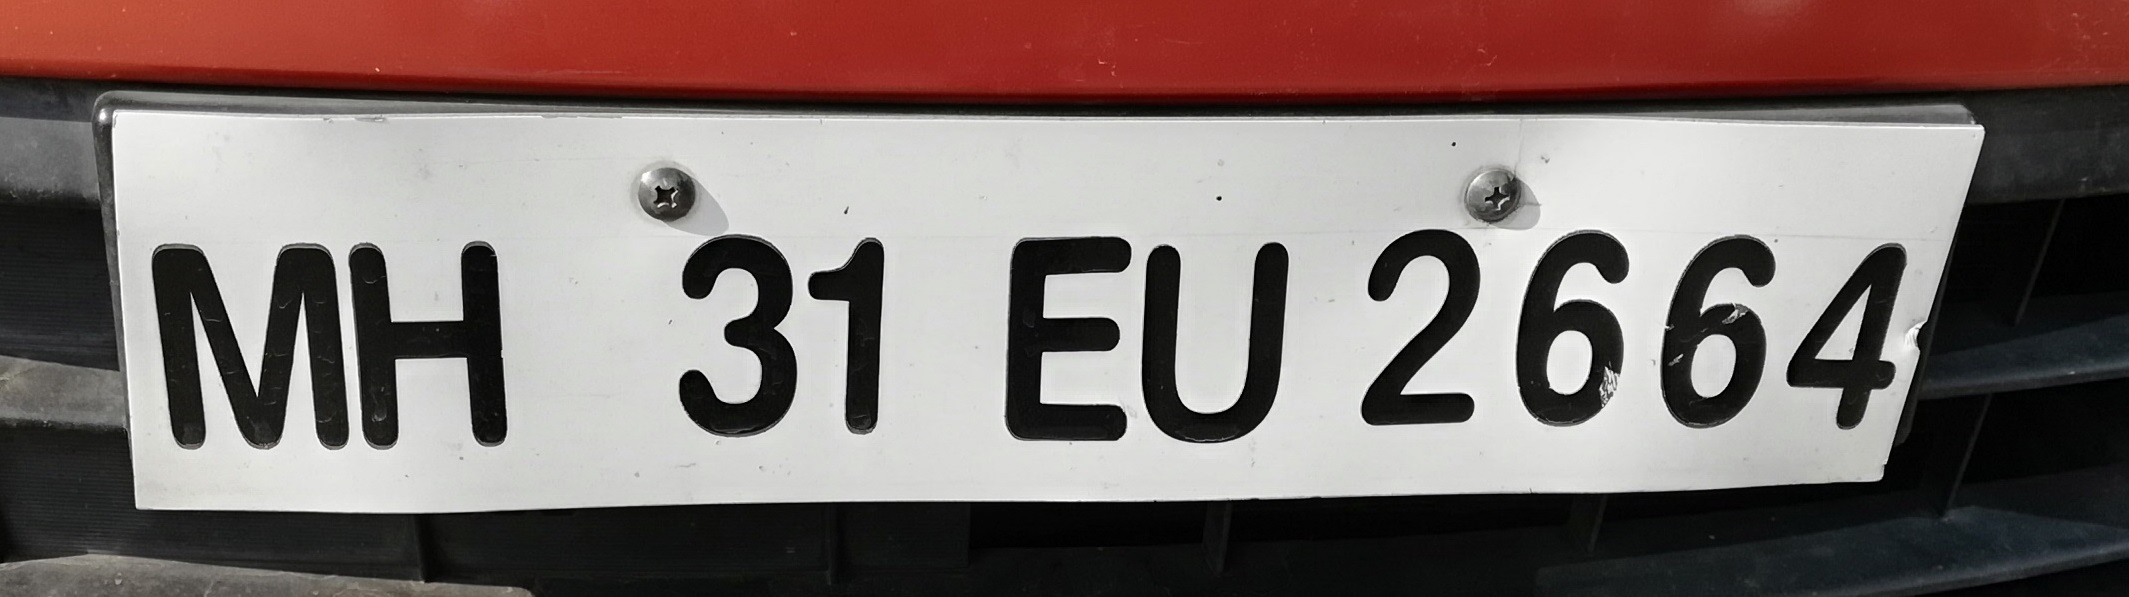numberplate: (79, 92, 1979, 519)
